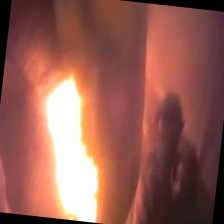fire: (41, 76, 108, 220)
